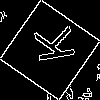K: (25, 25, 75, 66)
